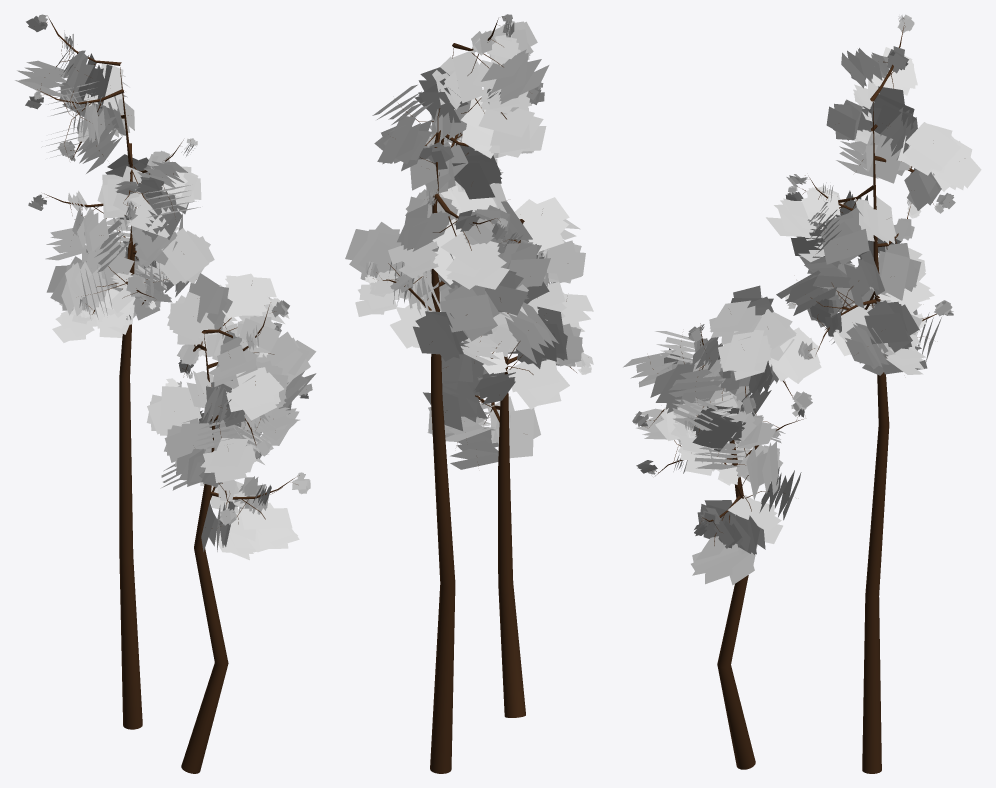
The model's file is koks9mesh.fbx.
3 renders of one model, left to right at view 1: azimuth 30°, elevation 25°; view 2: azimuth 150°, elevation 25°; view 3: azimuth 270°, elevation 25°, orthographic. The views are drawn at different scales.
Visible parts, largest first — view 1: Koks3.001; view 2: Koks3.001; view 3: Koks3.001.
Boxes of the visible parts, box(x1,y1,x2,y2) form: Koks3.001: box(15, 14, 316, 773); Koks3.001: box(345, 14, 593, 773); Koks3.001: box(623, 14, 981, 773).
Size of the model in its own units: 12.32 by 43.13 by 19.53.
